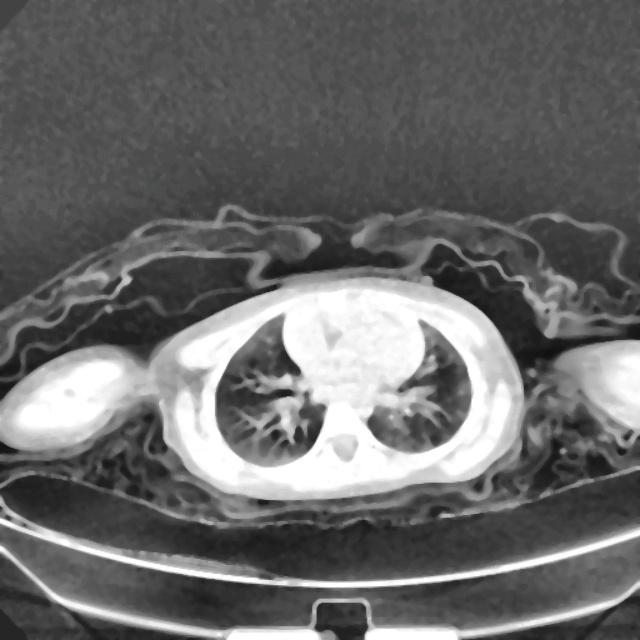covid: (145, 269, 526, 502)
